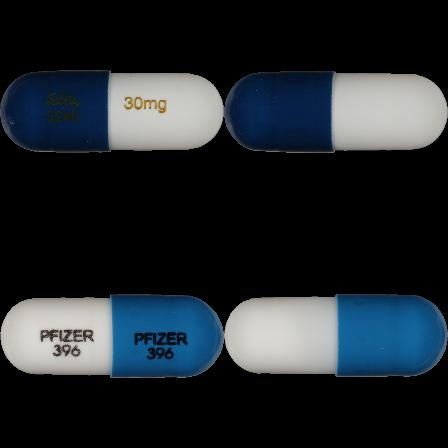49999-618: (0, 0, 224, 224)
